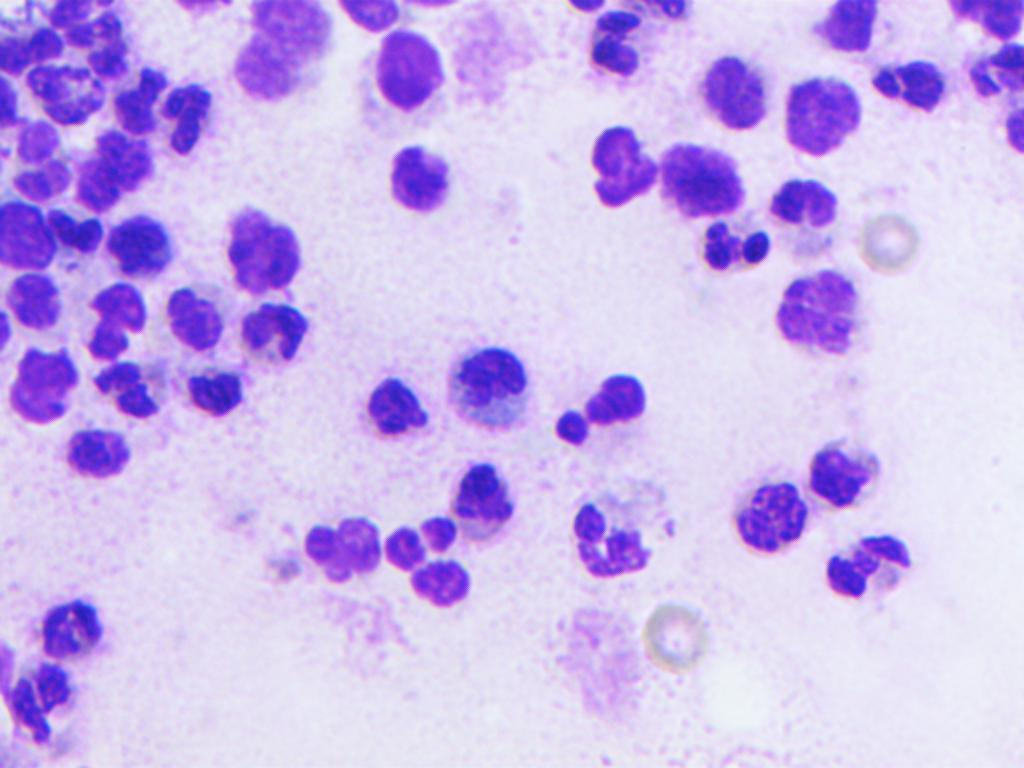epithelial: (767, 263, 871, 373), (782, 69, 870, 170), (585, 120, 662, 215)
erythrocyte: (636, 591, 731, 683), (848, 198, 936, 277)
neutrophil: (564, 474, 679, 590), (354, 18, 463, 139), (551, 356, 676, 460), (105, 58, 230, 158), (447, 331, 545, 440), (382, 513, 491, 610), (223, 188, 316, 300), (814, 524, 926, 612), (569, 4, 678, 92), (650, 137, 753, 221), (961, 31, 1024, 154), (346, 361, 437, 446), (712, 473, 801, 558), (31, 575, 117, 661), (3, 337, 81, 428), (19, 56, 117, 128), (53, 427, 161, 491), (227, 298, 319, 372), (794, 436, 891, 506), (78, 278, 156, 365), (758, 172, 830, 266), (162, 357, 260, 425), (160, 270, 233, 358), (43, 4, 136, 72), (697, 50, 772, 134), (865, 52, 962, 115), (298, 512, 383, 583), (8, 659, 77, 743), (381, 140, 454, 218), (697, 212, 777, 282), (93, 362, 170, 432), (0, 192, 62, 271), (17, 119, 73, 206), (111, 214, 184, 280), (443, 461, 517, 523), (7, 266, 67, 330), (46, 203, 105, 267), (0, 26, 69, 71)
